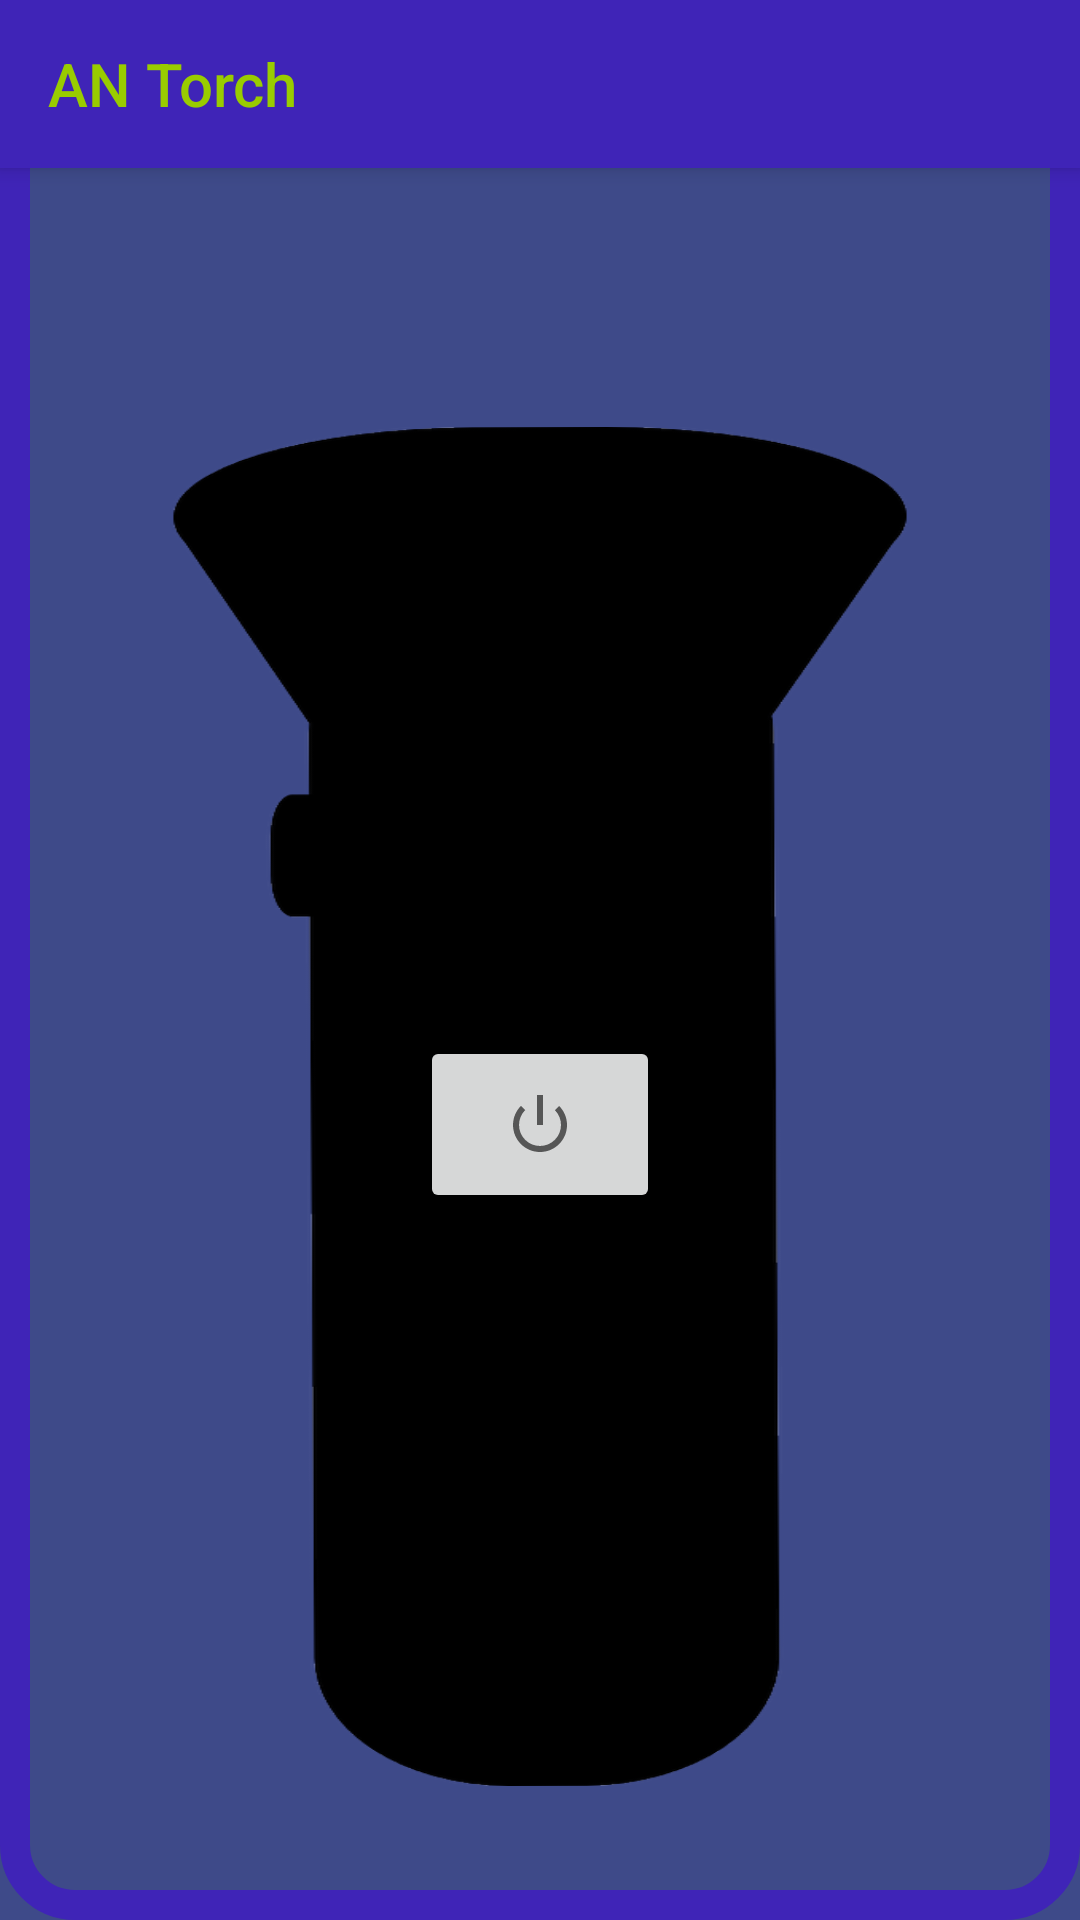

Where icons sit on this 1080x1920 app screen, as (x1, y1, x2, y2):
lock power off: (432, 1054, 648, 1195)
